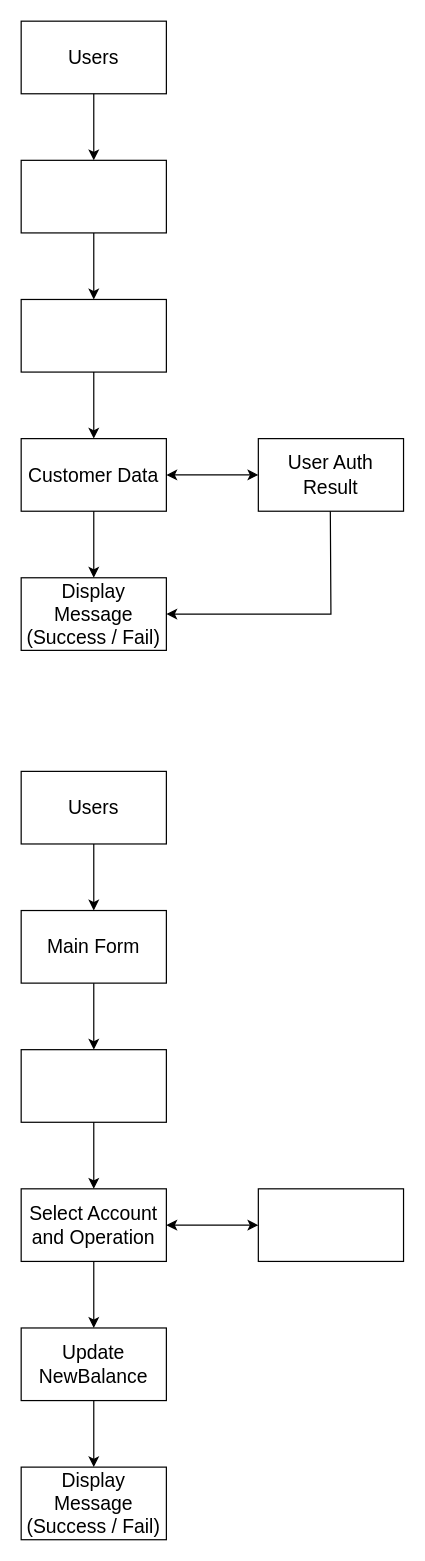
Image size: 425x1561. Some labels were removed from this diagram. The shapes that lost their labels are listed below. From the top down, each one's centre as x and y in pixels, then its label:
[93,196]: Login Form
[93,335]: ATM Manager Validate User
[93,1085]: ATM Manager Transaction
[330,1224]: Account Data
